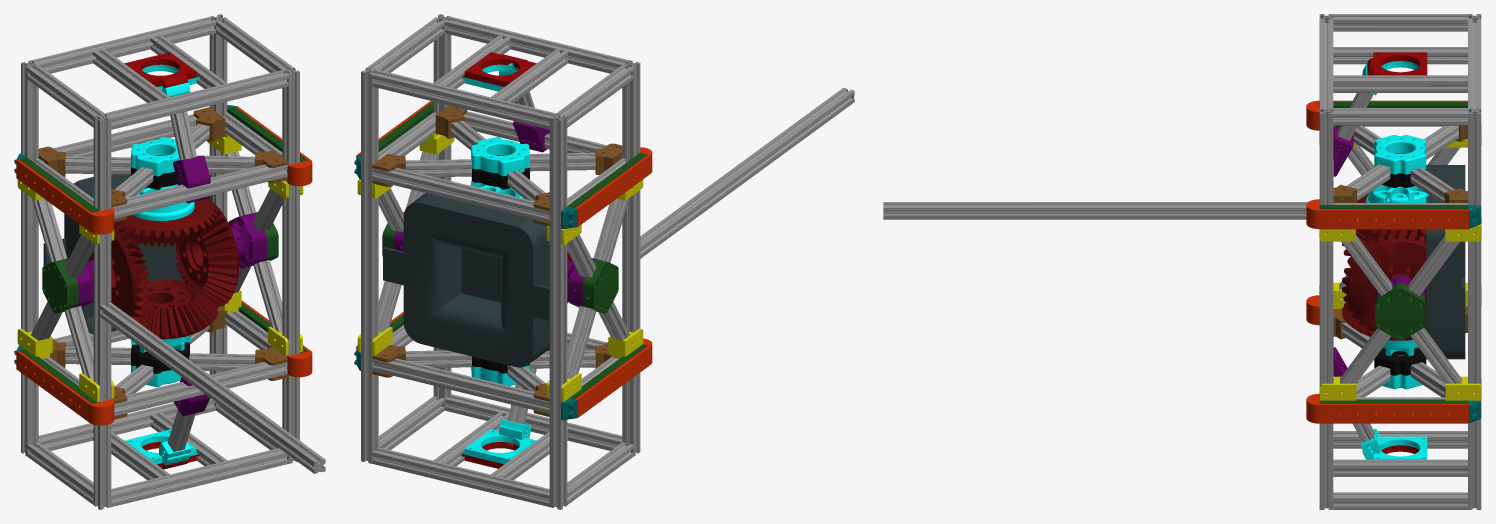
3 views of the same model, side by side, from view 1: azimuth 30°, elevation 25°; view 2: azimuth 150°, elevation 25°; view 3: azimuth 270°, elevation 25° (orthographic).
Visible parts, largest first — view 1: base_link_visual.001; view 2: base_link_visual.001; view 3: base_link_visual.001.
Boxes of the visible parts, x1,y1,x2,y2 form: base_link_visual.001: (14, 14, 325, 509); base_link_visual.001: (354, 14, 854, 509); base_link_visual.001: (883, 14, 1481, 509).
Bounding box in the file's own units: 0.3864 × 0.65 × 0.889.
